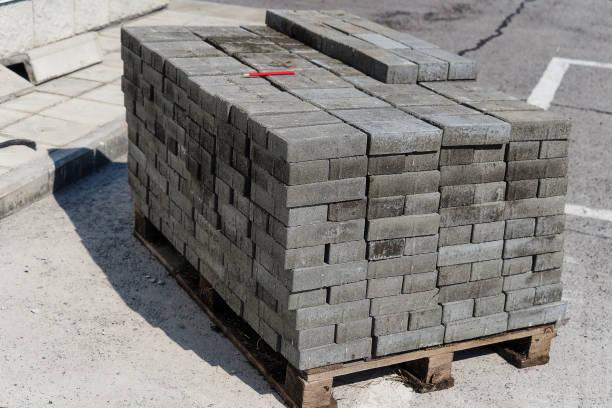Bricks: (287, 177, 368, 208), (291, 217, 366, 250), (294, 259, 369, 292), (287, 134, 369, 164), (372, 325, 445, 357), (368, 250, 439, 281), (369, 169, 439, 200), (305, 337, 372, 369), (368, 212, 441, 241), (297, 300, 370, 329), (448, 312, 514, 343), (373, 287, 443, 316), (368, 130, 445, 156), (439, 162, 506, 191), (438, 239, 504, 268), (439, 277, 507, 305), (276, 123, 368, 142), (446, 123, 513, 149), (251, 223, 288, 270), (441, 203, 507, 229), (254, 265, 291, 311), (254, 110, 343, 129), (213, 217, 255, 257), (172, 56, 254, 76), (331, 106, 421, 124), (504, 267, 566, 293), (238, 95, 321, 114), (510, 120, 573, 145), (514, 301, 566, 331), (255, 248, 292, 290), (295, 88, 380, 106), (362, 119, 447, 137), (278, 73, 354, 93), (506, 197, 568, 221), (261, 305, 300, 343), (194, 71, 274, 89), (506, 235, 568, 258), (506, 159, 568, 181), (215, 199, 250, 236), (410, 103, 486, 120), (440, 90, 525, 105), (124, 24, 199, 40), (234, 50, 306, 66), (249, 136, 277, 177), (504, 109, 574, 125), (219, 86, 289, 102), (256, 64, 330, 79), (383, 93, 457, 108), (139, 55, 167, 93), (288, 161, 329, 186), (354, 51, 387, 82), (144, 37, 217, 51), (208, 36, 280, 50), (161, 148, 192, 180), (329, 239, 367, 265), (331, 157, 372, 181), (373, 314, 412, 339), (155, 156, 182, 192), (358, 32, 411, 50), (326, 35, 382, 52), (188, 25, 261, 38), (320, 38, 355, 65), (158, 46, 230, 59), (418, 46, 476, 62), (367, 239, 409, 261), (288, 245, 328, 268), (331, 281, 371, 304), (167, 187, 194, 221), (439, 114, 509, 127), (294, 21, 347, 38), (506, 179, 542, 204), (191, 239, 221, 269), (291, 24, 322, 53), (194, 101, 218, 138), (534, 282, 568, 308), (384, 31, 438, 47), (365, 50, 419, 66), (372, 153, 408, 177), (371, 275, 408, 298), (442, 184, 476, 209), (473, 181, 507, 206), (423, 80, 500, 91), (441, 145, 476, 169), (404, 270, 439, 294), (291, 290, 329, 312), (339, 319, 375, 342), (321, 20, 376, 35), (248, 161, 273, 194), (249, 182, 274, 215), (394, 49, 448, 64), (479, 102, 546, 114), (146, 162, 171, 194), (199, 261, 224, 293), (411, 305, 443, 330), (290, 206, 328, 227), (301, 326, 339, 347), (438, 263, 471, 287), (368, 198, 405, 219), (476, 293, 507, 318), (189, 161, 213, 193), (255, 318, 279, 350), (444, 300, 476, 324), (329, 202, 367, 222), (441, 225, 474, 248), (264, 10, 293, 36), (325, 64, 371, 80), (534, 250, 566, 273), (508, 288, 536, 314), (276, 302, 298, 335), (475, 222, 508, 244), (164, 117, 189, 146), (407, 151, 441, 172), (506, 142, 540, 163), (140, 121, 161, 155), (409, 234, 441, 256), (406, 194, 439, 215), (250, 201, 271, 234), (127, 173, 148, 206), (148, 190, 169, 223), (507, 216, 537, 239), (536, 214, 566, 237), (234, 244, 254, 278), (271, 8, 319, 22), (473, 260, 505, 281), (381, 82, 436, 94), (266, 130, 286, 163), (269, 216, 289, 249), (280, 336, 301, 367), (191, 185, 216, 211), (353, 79, 393, 95), (231, 189, 251, 221), (211, 232, 233, 261), (505, 257, 534, 279), (249, 115, 268, 148), (215, 219, 239, 245), (166, 99, 187, 128), (221, 272, 242, 301), (541, 140, 573, 159), (212, 175, 231, 206), (349, 19, 398, 31), (242, 25, 291, 37), (543, 177, 571, 198), (143, 96, 167, 120), (221, 257, 243, 283), (130, 145, 151, 172), (221, 290, 242, 317), (215, 160, 235, 188), (192, 222, 212, 250), (231, 105, 250, 134), (200, 128, 219, 157), (474, 146, 508, 162), (389, 66, 419, 84), (300, 9, 344, 21), (202, 86, 218, 119), (140, 141, 158, 170), (216, 142, 236, 168), (150, 182, 170, 208), (241, 289, 261, 315), (219, 118, 237, 146), (195, 205, 216, 229), (418, 65, 449, 81), (119, 44, 138, 70), (216, 95, 233, 123), (233, 171, 250, 199), (259, 304, 278, 329), (450, 63, 477, 80), (234, 149, 251, 176), (131, 194, 148, 220), (306, 55, 346, 66), (235, 127, 250, 156), (274, 199, 290, 226), (273, 159, 290, 184), (186, 114, 201, 142), (165, 76, 181, 102), (137, 72, 153, 98), (134, 101, 151, 125), (242, 272, 259, 296), (125, 109, 141, 134), (291, 44, 324, 56), (182, 88, 196, 116), (180, 178, 197, 201), (242, 306, 259, 329), (273, 179, 288, 204), (201, 148, 216, 173), (148, 208, 164, 231), (190, 78, 204, 104), (165, 60, 180, 84), (161, 135, 179, 155), (150, 114, 166, 136), (169, 208, 185, 230), (331, 10, 366, 20), (272, 35, 307, 45), (260, 292, 277, 312), (153, 84, 166, 110), (120, 26, 134, 50), (199, 261, 221, 275), (188, 136, 200, 161), (184, 251, 199, 271), (178, 70, 191, 92), (126, 128, 140, 148), (185, 215, 197, 238), (119, 78, 134, 96), (153, 52, 166, 72), (175, 228, 191, 244), (172, 238, 187, 255), (123, 65, 135, 86), (163, 222, 175, 243), (142, 46, 155, 65), (125, 159, 138, 178), (139, 168, 149, 191), (179, 143, 191, 161), (125, 94, 136, 113), (133, 39, 144, 56), (134, 88, 145, 105)
